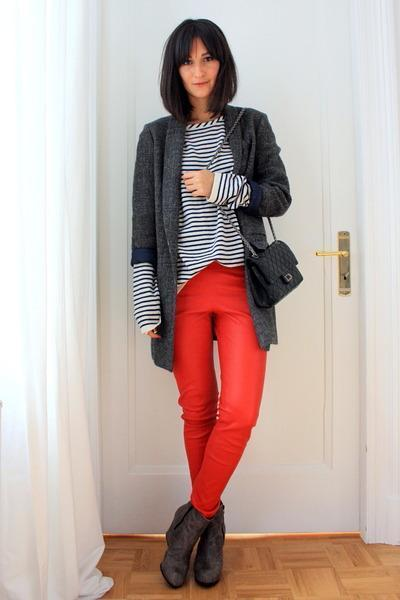bag: (228, 240, 302, 308)
jacket: (131, 108, 291, 371)
pants: (172, 260, 269, 515)
shirt: (121, 119, 246, 338)
shoe: (160, 501, 225, 589)
